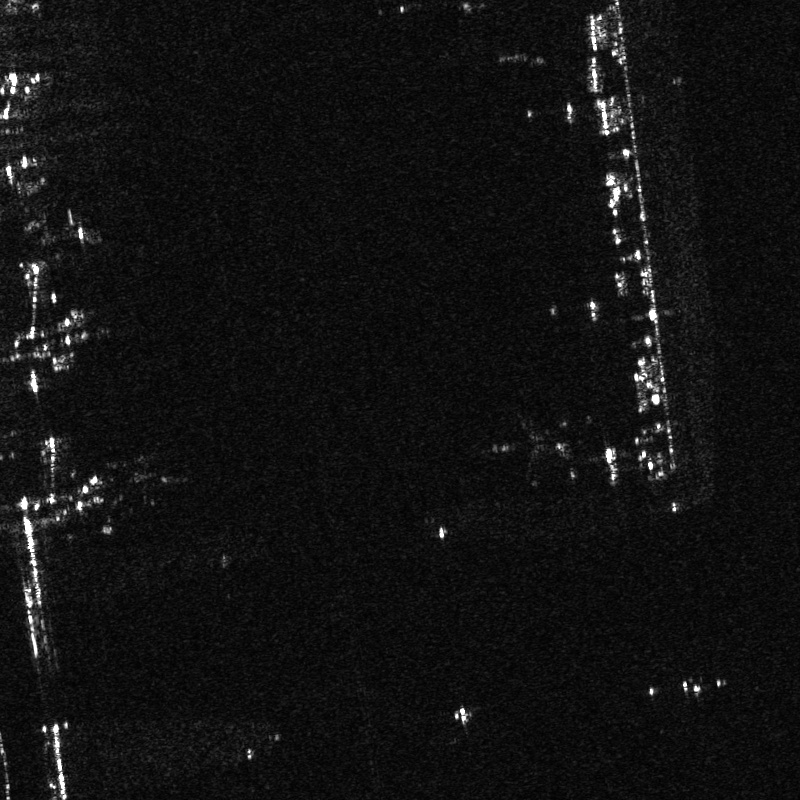Boeing787: (484, 409, 570, 490)
